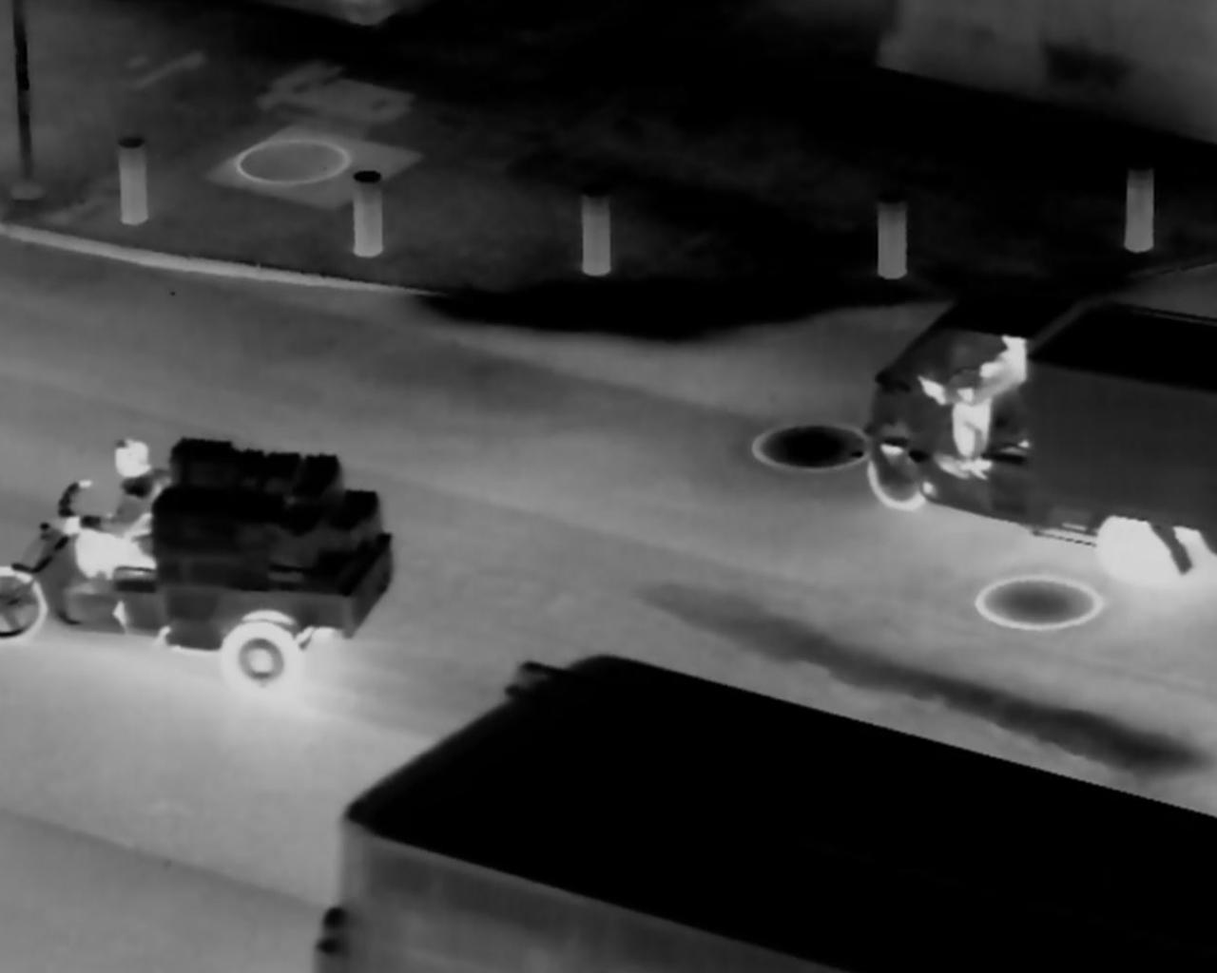person: (68, 426, 161, 586), (950, 326, 1024, 486)
